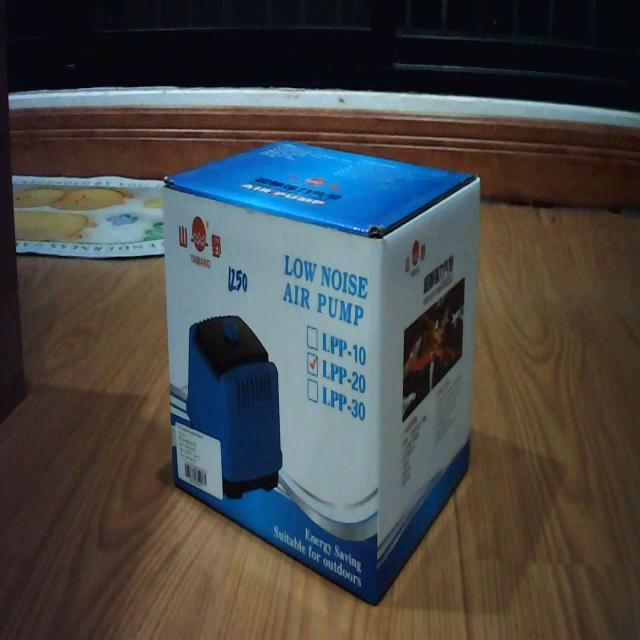YAMANO_LPP_20: (157, 128, 487, 617)
